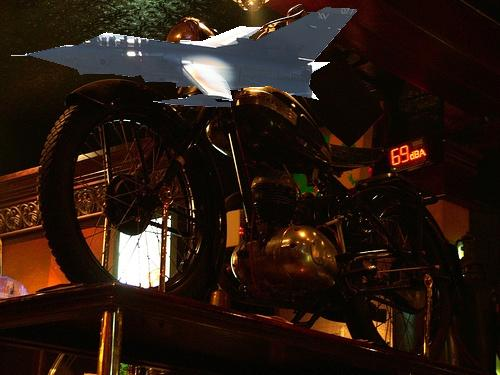tampered: (12, 8, 357, 107)
